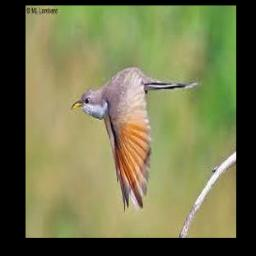Cuckoo: (71, 66, 202, 212)
